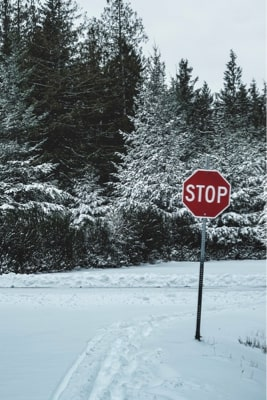StopSign: (181, 168, 232, 220)
